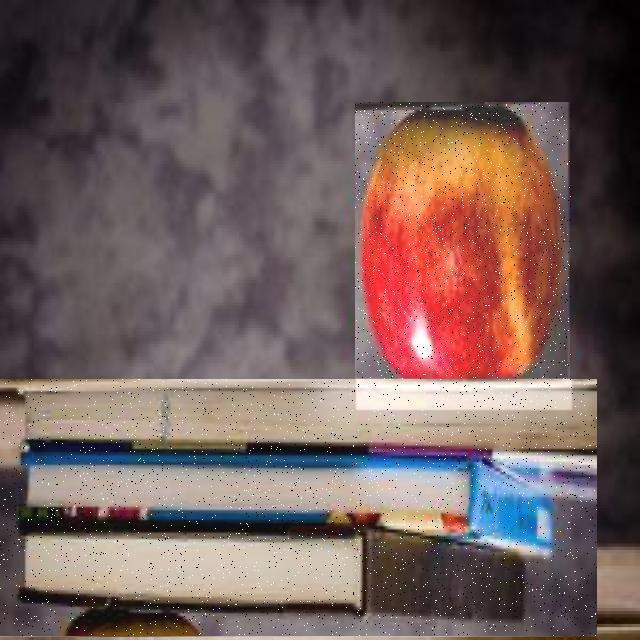Apple: (356, 102, 572, 410)
Book: (0, 379, 597, 636)
